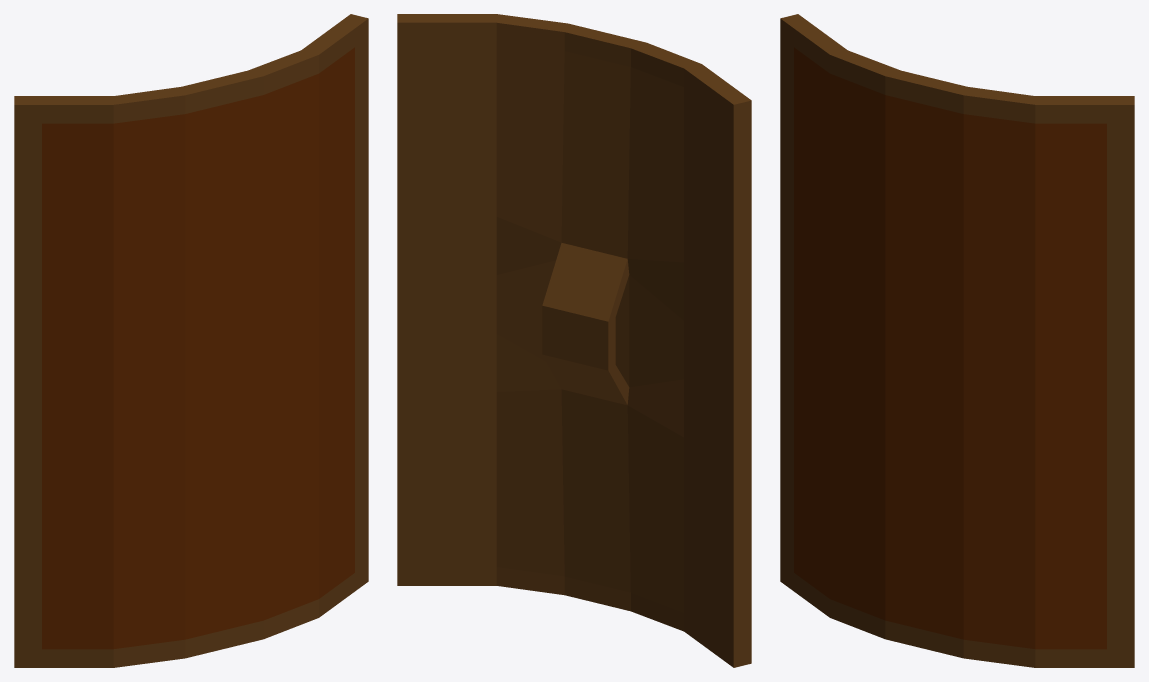
Rendered from BronzeSquareShield.glb.
3 views of the same model, side by side, from view 1: azimuth 30°, elevation 25°; view 2: azimuth 150°, elevation 25°; view 3: azimuth 330°, elevation 25° (orthographic).
Parts seen in each view (by area): view 1: SqShield; view 2: SqShield; view 3: SqShield.
Boxes of the visible parts, box(x1,y1,x2,y2) form: SqShield: box(14, 14, 368, 667); SqShield: box(397, 14, 751, 667); SqShield: box(780, 14, 1134, 667).
Size of the model in its own units: 0.3953 by 0.6 by 0.0811.
